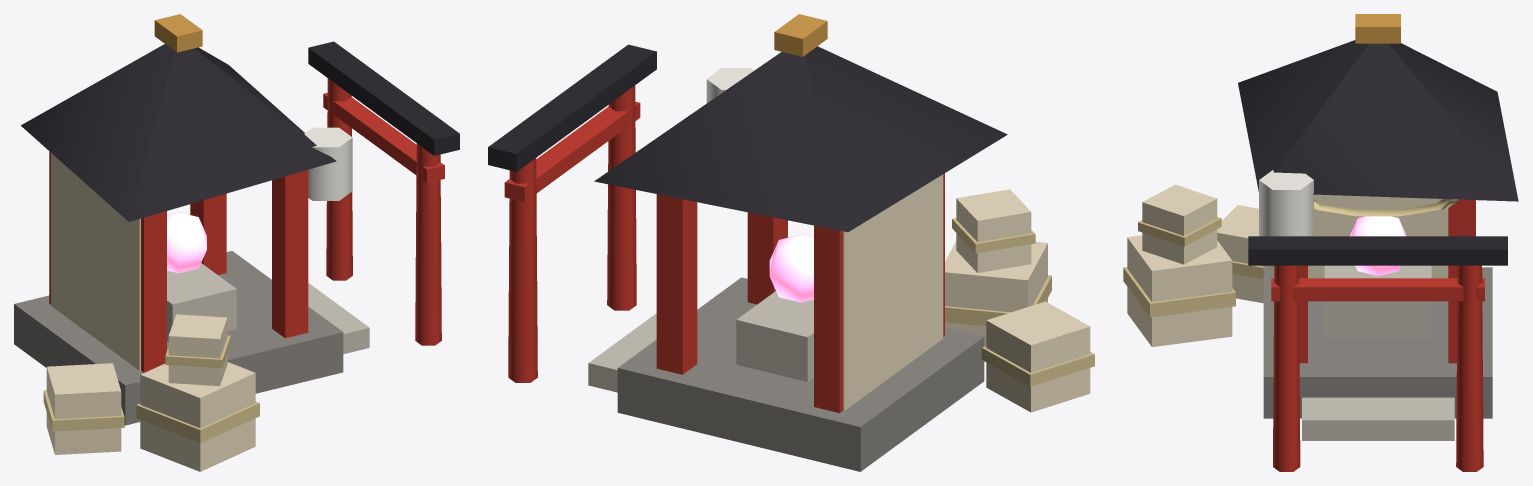
The model's file is landmark_shrine.glb.
The picture shows the model from 3 angles, left to right: view 1: azimuth 30°, elevation 25°; view 2: azimuth 150°, elevation 25°; view 3: azimuth 270°, elevation 25°; orthographic projection. The views are drawn at different scales.
Parts seen in each view (by area): view 1: shrine_roof, shrine_base, shrine_back, shrine, crate_0_box, torii_kasagi, crate_1_box, torii_post_l, crate_2_box, shrine_altar, torii_post_r, torii_nuki (+7 smaller); view 2: shrine_roof, shrine_base, shrine_back, shrine, crate_1_box, torii_kasagi, torii_post_r, shrine_altar, crate_0_box, torii_post_l, crate_2_box, torii_nuki (+7 smaller); view 3: shrine_roof, shrine_base, torii_kasagi, crate_0_box, shrine_step, torii_post_r, torii_post_l, shrine_altar, torii_nuki, crate_2_box, shrine_back, lantern_body (+8 smaller).
Part boxes in pixels (x1,y1,x2,y2): shrine_roof: (21,44,336,221); shrine_base: (14,251,343,425); shrine_back: (51,153,140,370); shrine: (49,151,308,372); crate_0_box: (140,362,255,471); torii_kasagi: (308,41,459,155); crate_1_box: (46,363,121,454); torii_post_l: (415,143,441,345); crate_2_box: (168,314,227,386); shrine_altar: (167,263,236,341); torii_post_r: (326,78,352,280); torii_nuki: (323,93,444,182); shrine_roof: (594,46,1007,232); shrine_base: (617,277,984,471); shrine_back: (843,174,943,410); shrine: (656,173,944,412); crate_1_box: (986,301,1090,412); torii_kasagi: (488,44,656,171); torii_post_r: (508,158,537,382); shrine_altar: (736,291,813,381); crate_0_box: (945,241,1047,346); torii_post_l: (607,85,636,310); crate_2_box: (956,189,1031,272); torii_nuki: (504,101,640,202); shrine_roof: (1238,40,1518,201); shrine_base: (1263,267,1492,418); torii_kasagi: (1248,236,1507,265); crate_0_box: (1127,235,1232,346); shrine_step: (1302,397,1454,440); torii_post_r: (1456,265,1483,471); torii_post_l: (1273,265,1300,471); shrine_altar: (1324,265,1431,338); torii_nuki: (1271,278,1484,301); crate_2_box: (1142,184,1217,264); shrine_back: (1308,194,1448,278); lantern_body: (1259,170,1313,236).
Size of the model in its own units: 0.3221 by 0.248 by 0.2588.
